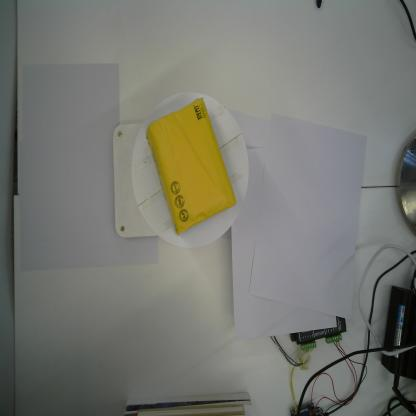Tissue: (144, 96, 238, 240)
